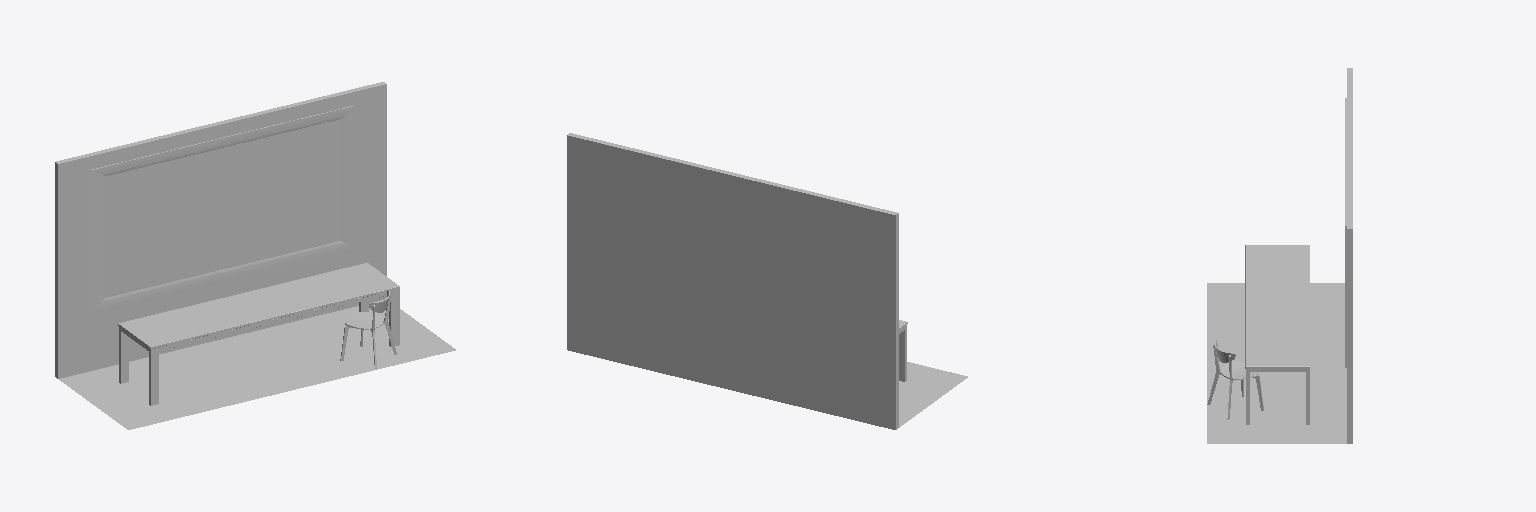
Rendered from escena.obj.
3 renders of one model, left to right at view 1: azimuth 30°, elevation 25°; view 2: azimuth 150°, elevation 25°; view 3: azimuth 270°, elevation 25°, orthographic.
Visible parts, largest first — view 1: Picture_10, wall_1_4, ground_1, Table_17, Frame_8_14, Feet_16, Frame_15, wall_1_7, wall_1_6; view 2: wall_1_5, ground_1, wall_1_7, wall_1_6; view 3: ground_1, Table_17, wall_1_4, wall_1_5, Frame_13.
Boxes of the visible parts, x1=… form: Picture_10: x1=105, y1=119, x2=340, y2=297; wall_1_4: x1=57, y1=84, x2=386, y2=378; ground_1: x1=59, y1=300, x2=455, y2=429; Table_17: x1=118, y1=263, x2=399, y2=348; Frame_8_14: x1=92, y1=106, x2=353, y2=311; Feet_16: x1=119, y1=289, x2=399, y2=405; Frame_15: x1=121, y1=291, x2=390, y2=350; wall_1_7: x1=56, y1=82, x2=384, y2=162; wall_1_6: x1=57, y1=83, x2=385, y2=163; wall_1_5: x1=567, y1=135, x2=896, y2=429; ground_1: x1=899, y1=362, x2=967, y2=427; wall_1_7: x1=568, y1=134, x2=896, y2=214; wall_1_6: x1=569, y1=133, x2=897, y2=213; ground_1: x1=1207, y1=283, x2=1346, y2=443; Table_17: x1=1245, y1=245, x2=1309, y2=368; wall_1_4: x1=1347, y1=229, x2=1349, y2=443; wall_1_5: x1=1350, y1=229, x2=1352, y2=443; Frame_13: x1=1345, y1=98, x2=1346, y2=367.
Size of the model in its own units: 432 by 270 by 167.